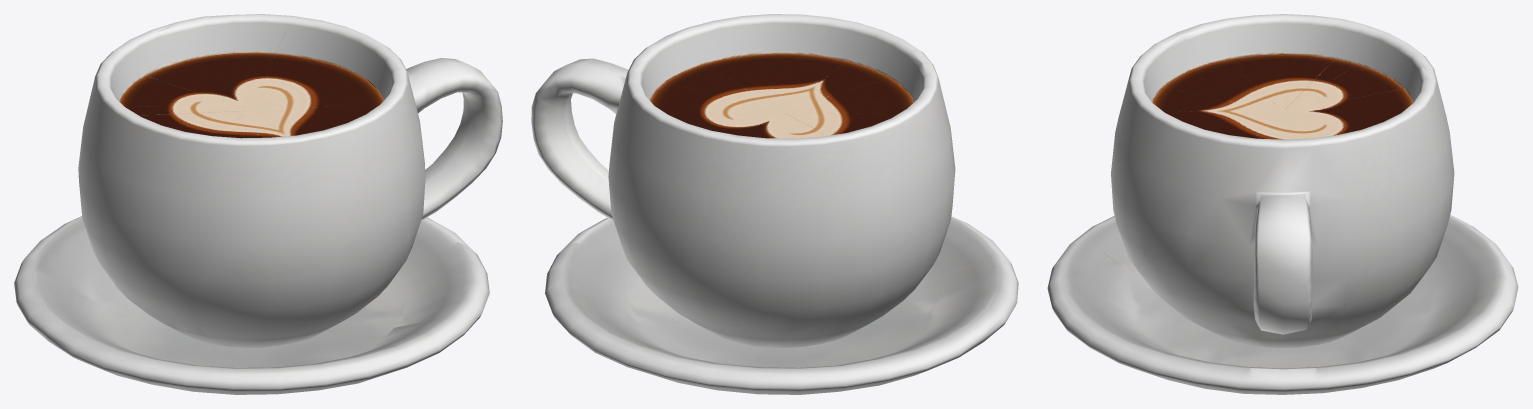
File: food_coffee.glb
The picture shows the model from 3 angles, left to right: view 1: azimuth 30°, elevation 25°; view 2: azimuth 150°, elevation 25°; view 3: azimuth 270°, elevation 25°; orthographic projection.
Bounding box in the file's own units: 1 × 0.5494 × 0.9276.
Materials: 1 (1 with a texture image).
